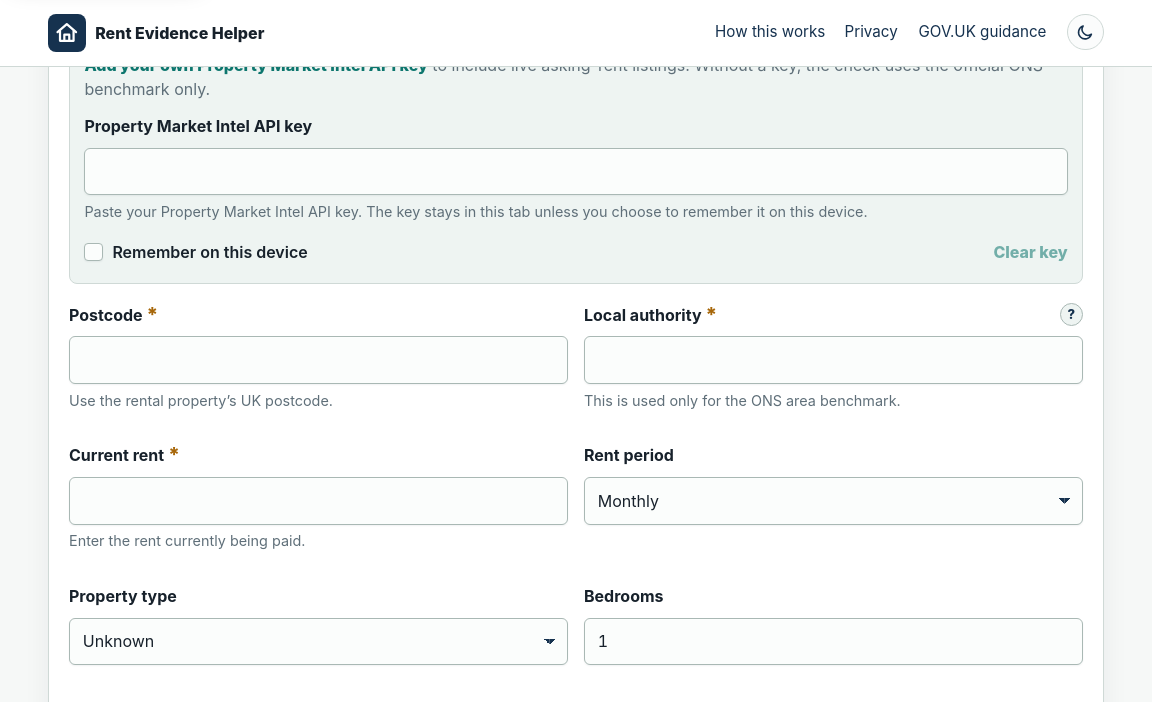
Test: App › lets the user clear the saved result without clearing the PMI key
(page scrolled)
In the field labelled "Postcode *": (318, 360) [69,336,568,384], type "SW12 8AA"
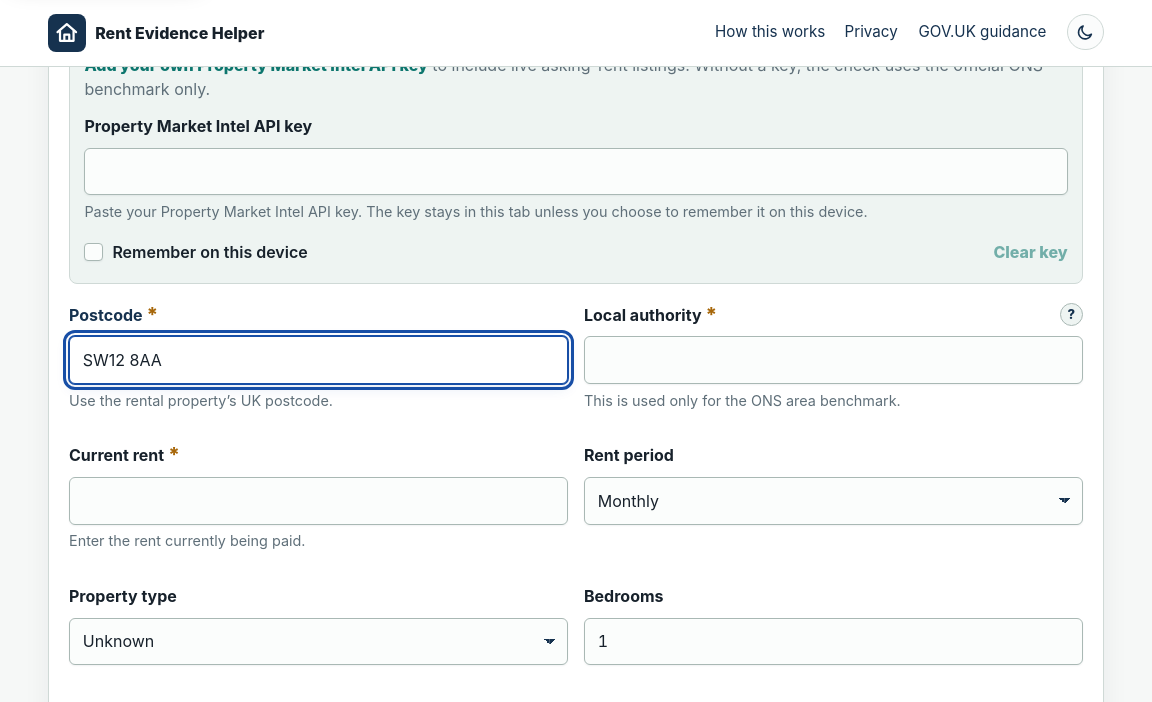
In the field labelled "Current rent *": (318, 501) [69,477,568,525], type "2450"
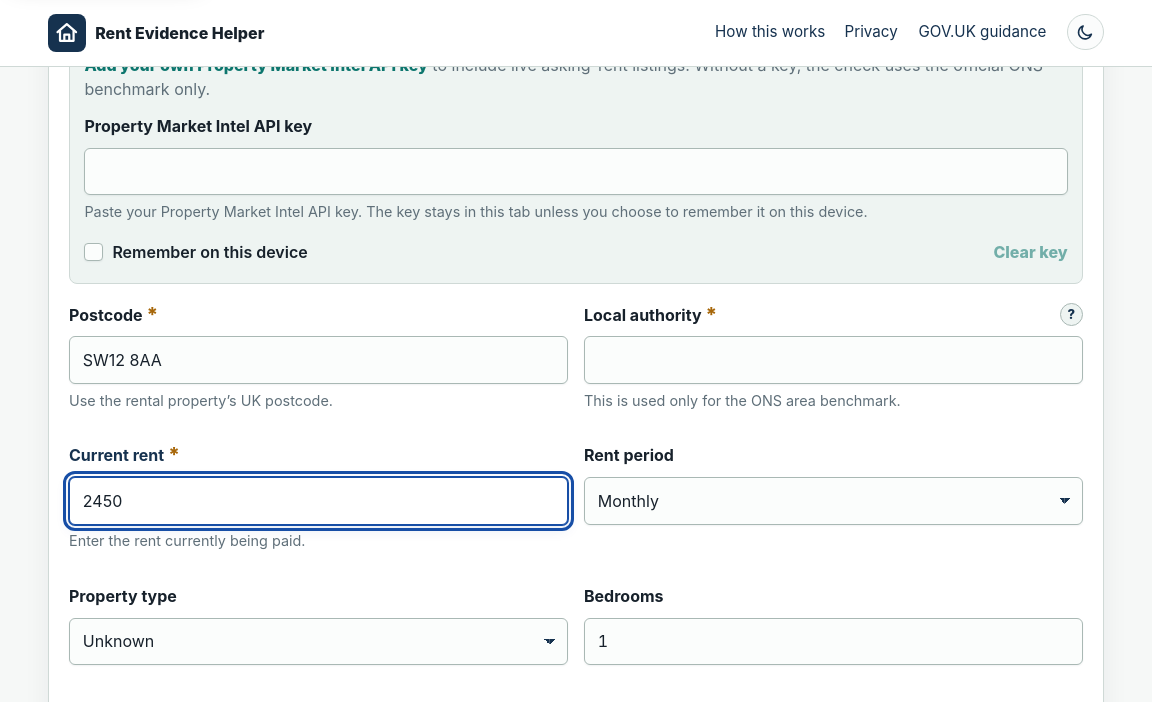
In the search field labelled "Local authority *": (834, 360) [584,336,1083,384], type "Lambeth (London)"
(page scrolled)
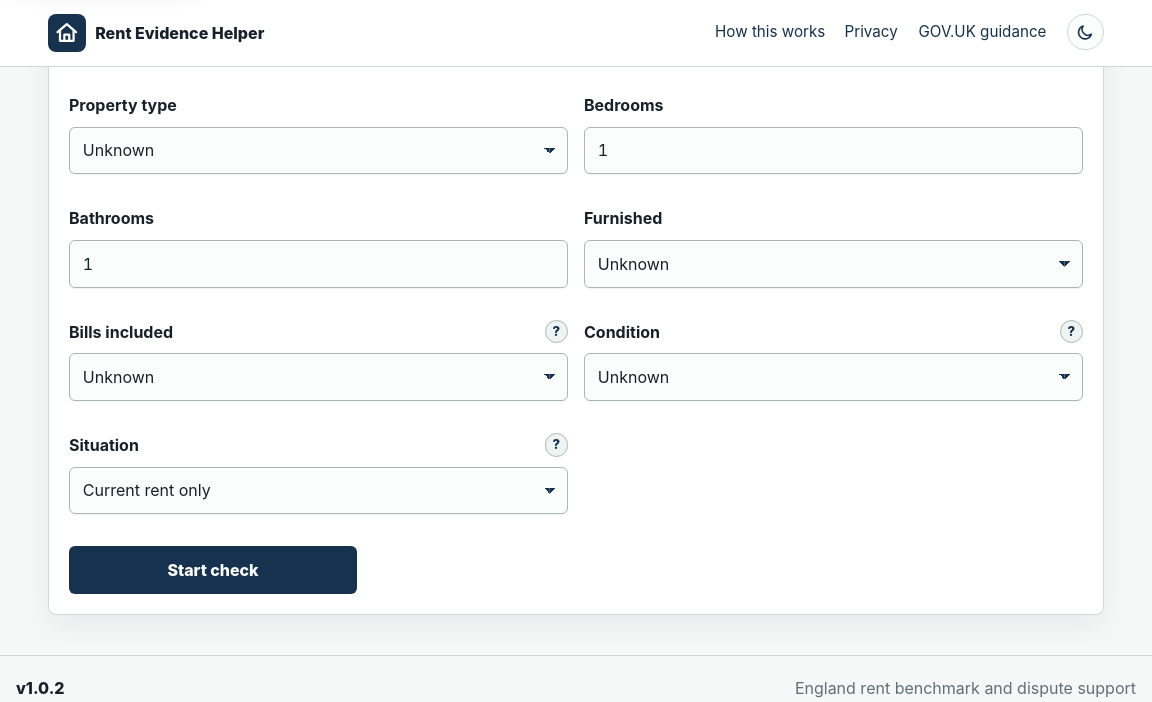
Click the button "Start check": (213, 570) [69,546,357,594]
(page scrolled)
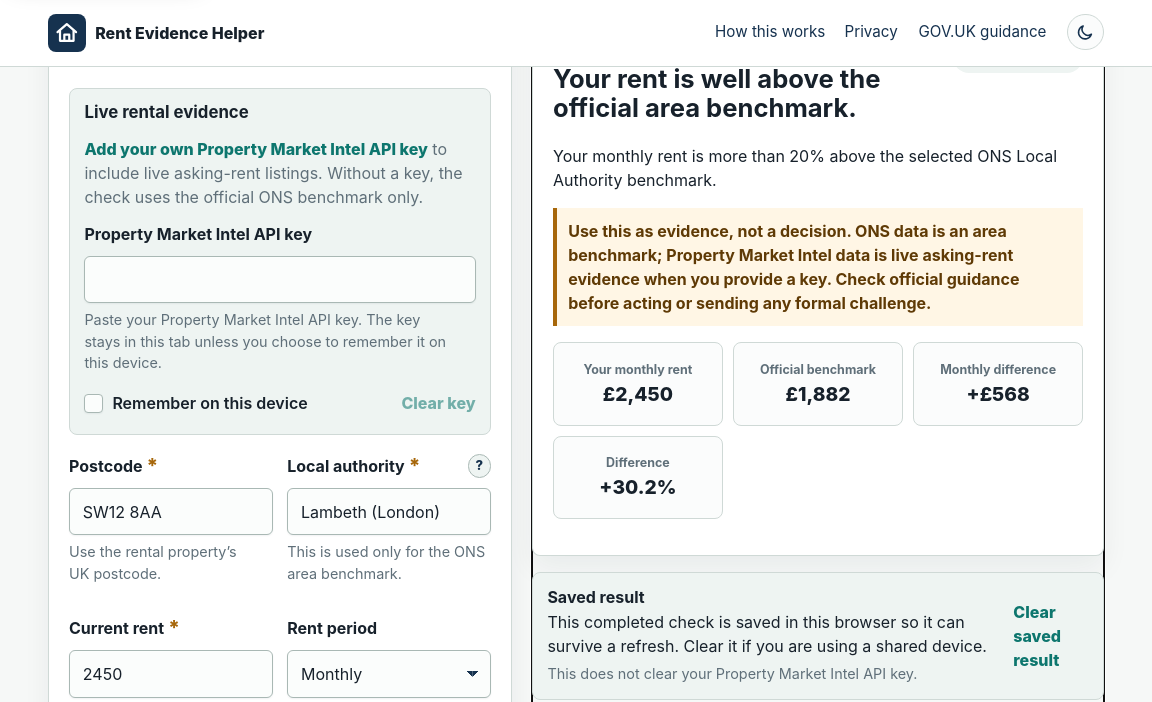
expect the element "Saved result" is shown: met, box [532,572,1104,700]
expect the text "This does not clear your Property Market Intel API key." is shown: met, box [547,665,918,682]
Click the button "Clear saved result": (1051, 636) [1013,600,1089,672]
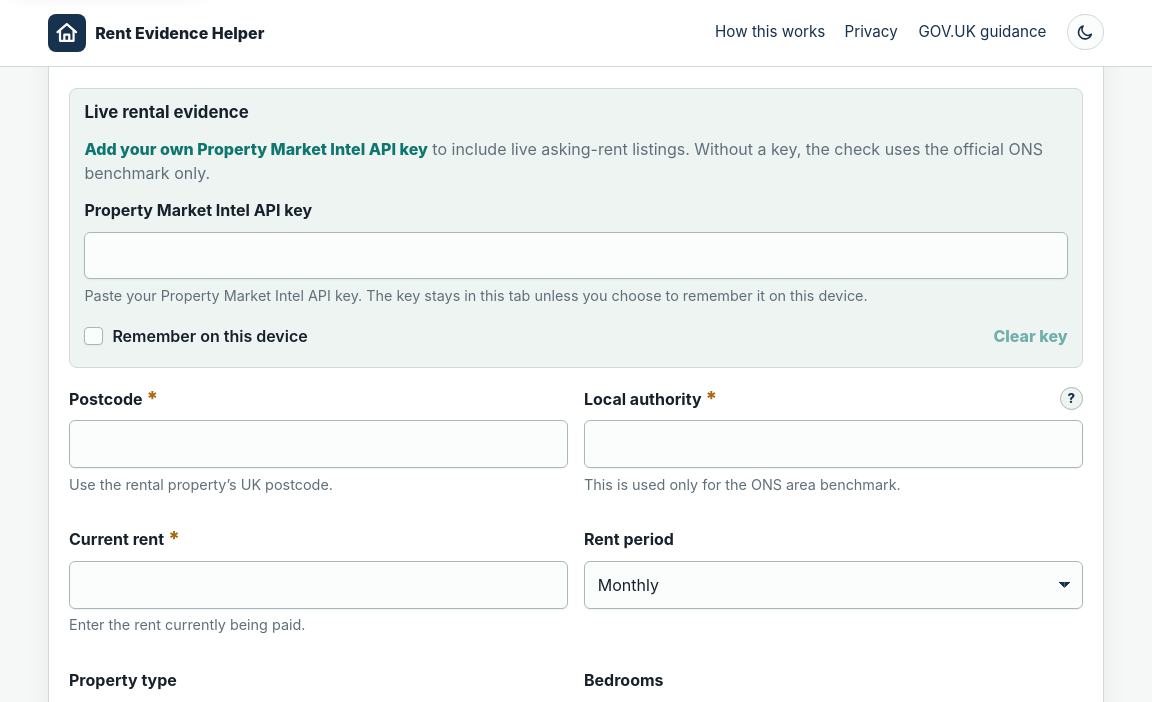
expect the field labelled "Postcode *" is empty: met, box [69,420,568,468]
expect the field labelled "Current rent *" is empty: met, box [69,561,568,609]
